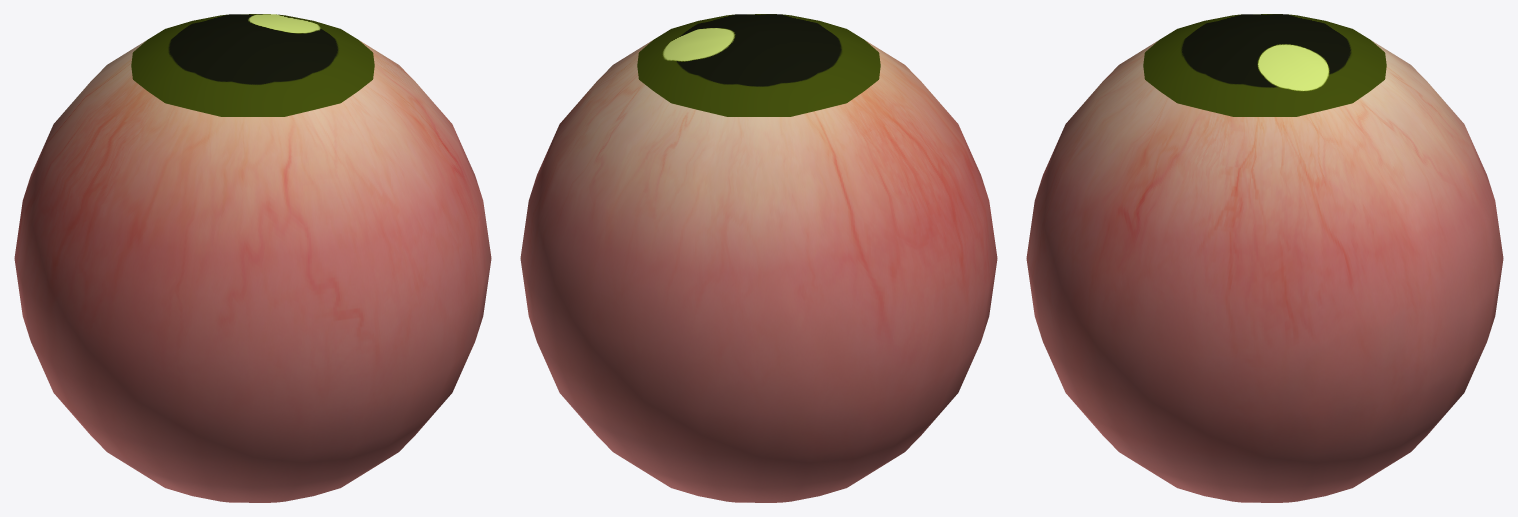
Rendered from Eyeball.fbx.
3 renders of one model, left to right at view 1: azimuth 30°, elevation 25°; view 2: azimuth 150°, elevation 25°; view 3: azimuth 270°, elevation 25°, orthographic.
Parts seen in each view (by area): view 1: Sphere002; view 2: Sphere002; view 3: Sphere002.
Part boxes in pixels (left/top/right/bottom): Sphere002: left=14, top=14, right=491, bottom=502; Sphere002: left=520, top=14, right=997, bottom=502; Sphere002: left=1026, top=14, right=1503, bottom=502.
Size of the model in its own units: 3.36 by 3.53 by 3.36.
